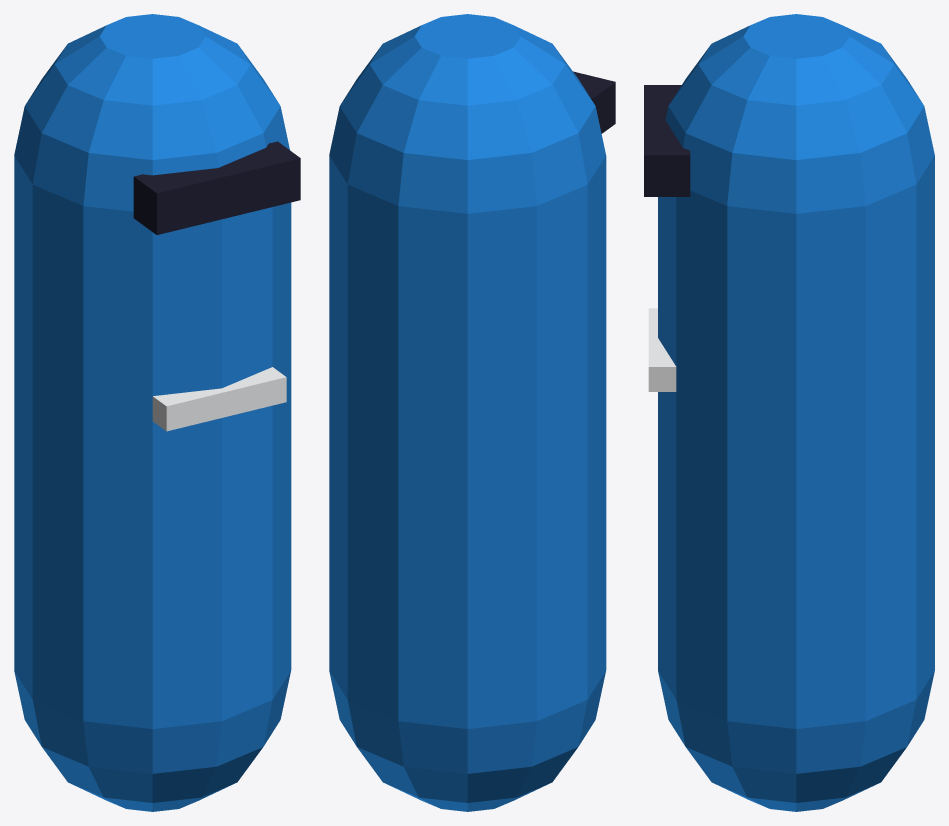
The model's file is char_proto_p2.fbx.
The picture shows the model from 3 angles, left to right: view 1: azimuth 30°, elevation 25°; view 2: azimuth 150°, elevation 25°; view 3: azimuth 270°, elevation 25°; orthographic projection.
Visible parts, largest first — view 1: char_proto_p2; view 2: char_proto_p2; view 3: char_proto_p2.
Part boxes in pixels (bbox=[...]): char_proto_p2: bbox=[14, 14, 300, 811]; char_proto_p2: bbox=[329, 14, 615, 811]; char_proto_p2: bbox=[644, 14, 934, 811].
Bounding box in the file's own units: 0.6 × 1.8 × 0.63.
